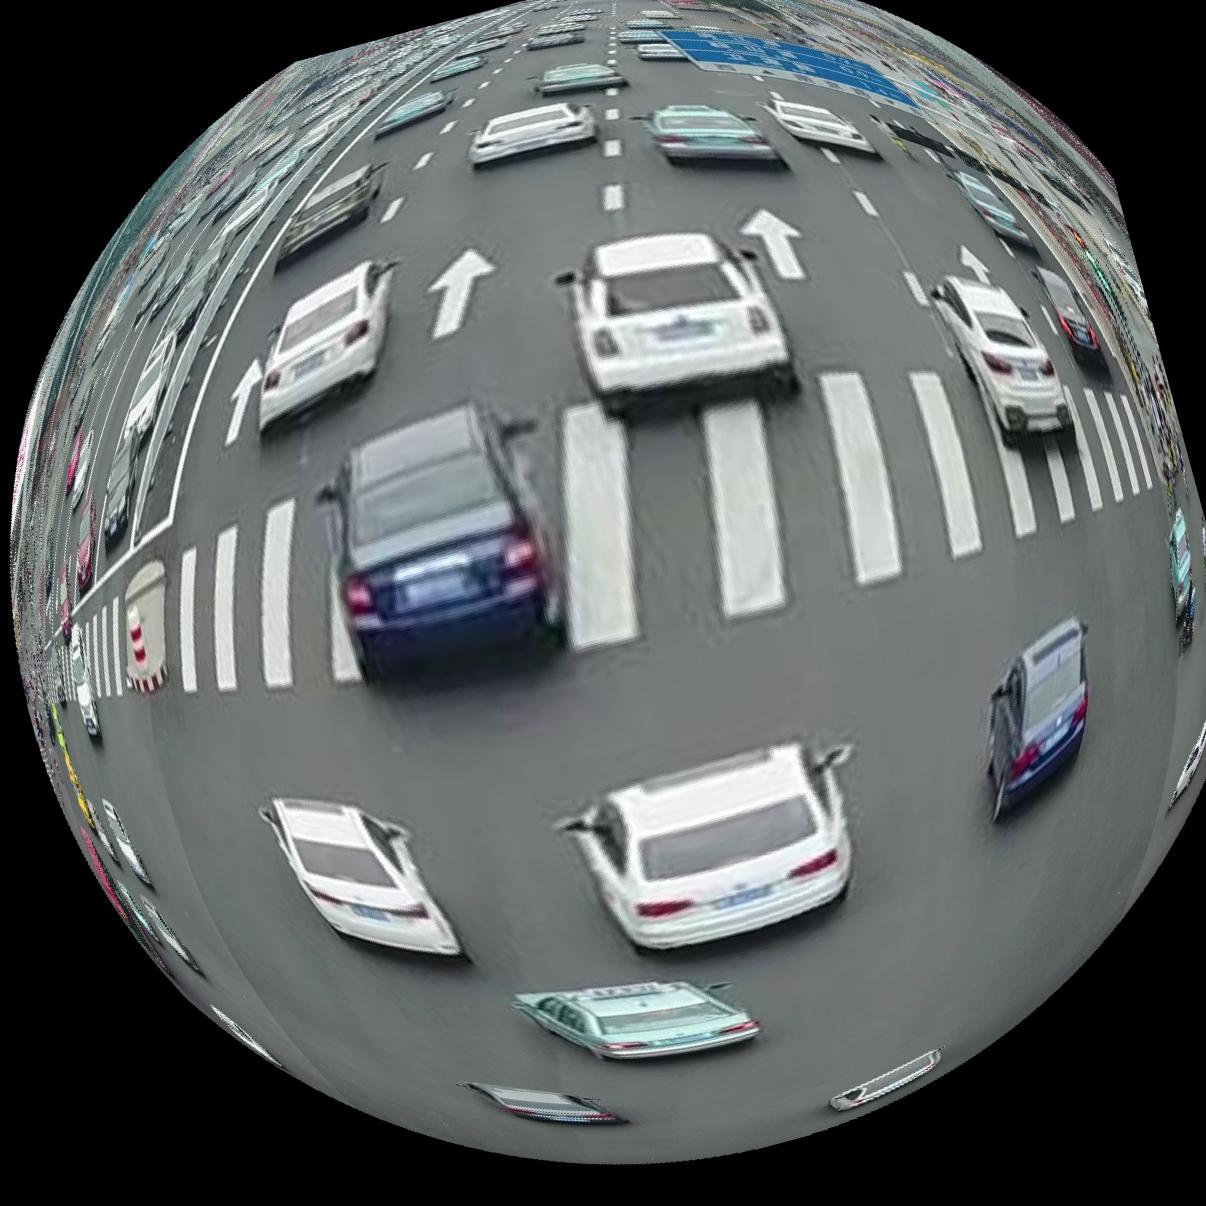cars: (335, 403, 565, 683), (560, 741, 854, 950), (570, 231, 796, 415), (261, 798, 462, 956), (257, 260, 393, 429), (933, 275, 1075, 434), (991, 617, 1091, 819), (512, 983, 760, 1061), (275, 163, 382, 266), (644, 103, 787, 163), (468, 100, 597, 166), (1038, 266, 1112, 379), (461, 1083, 627, 1126), (831, 1050, 943, 1113), (768, 89, 878, 152), (951, 170, 1036, 246), (119, 331, 176, 442), (100, 800, 150, 886), (99, 444, 138, 544), (374, 88, 452, 137), (537, 61, 628, 94), (487, 38, 501, 46)
